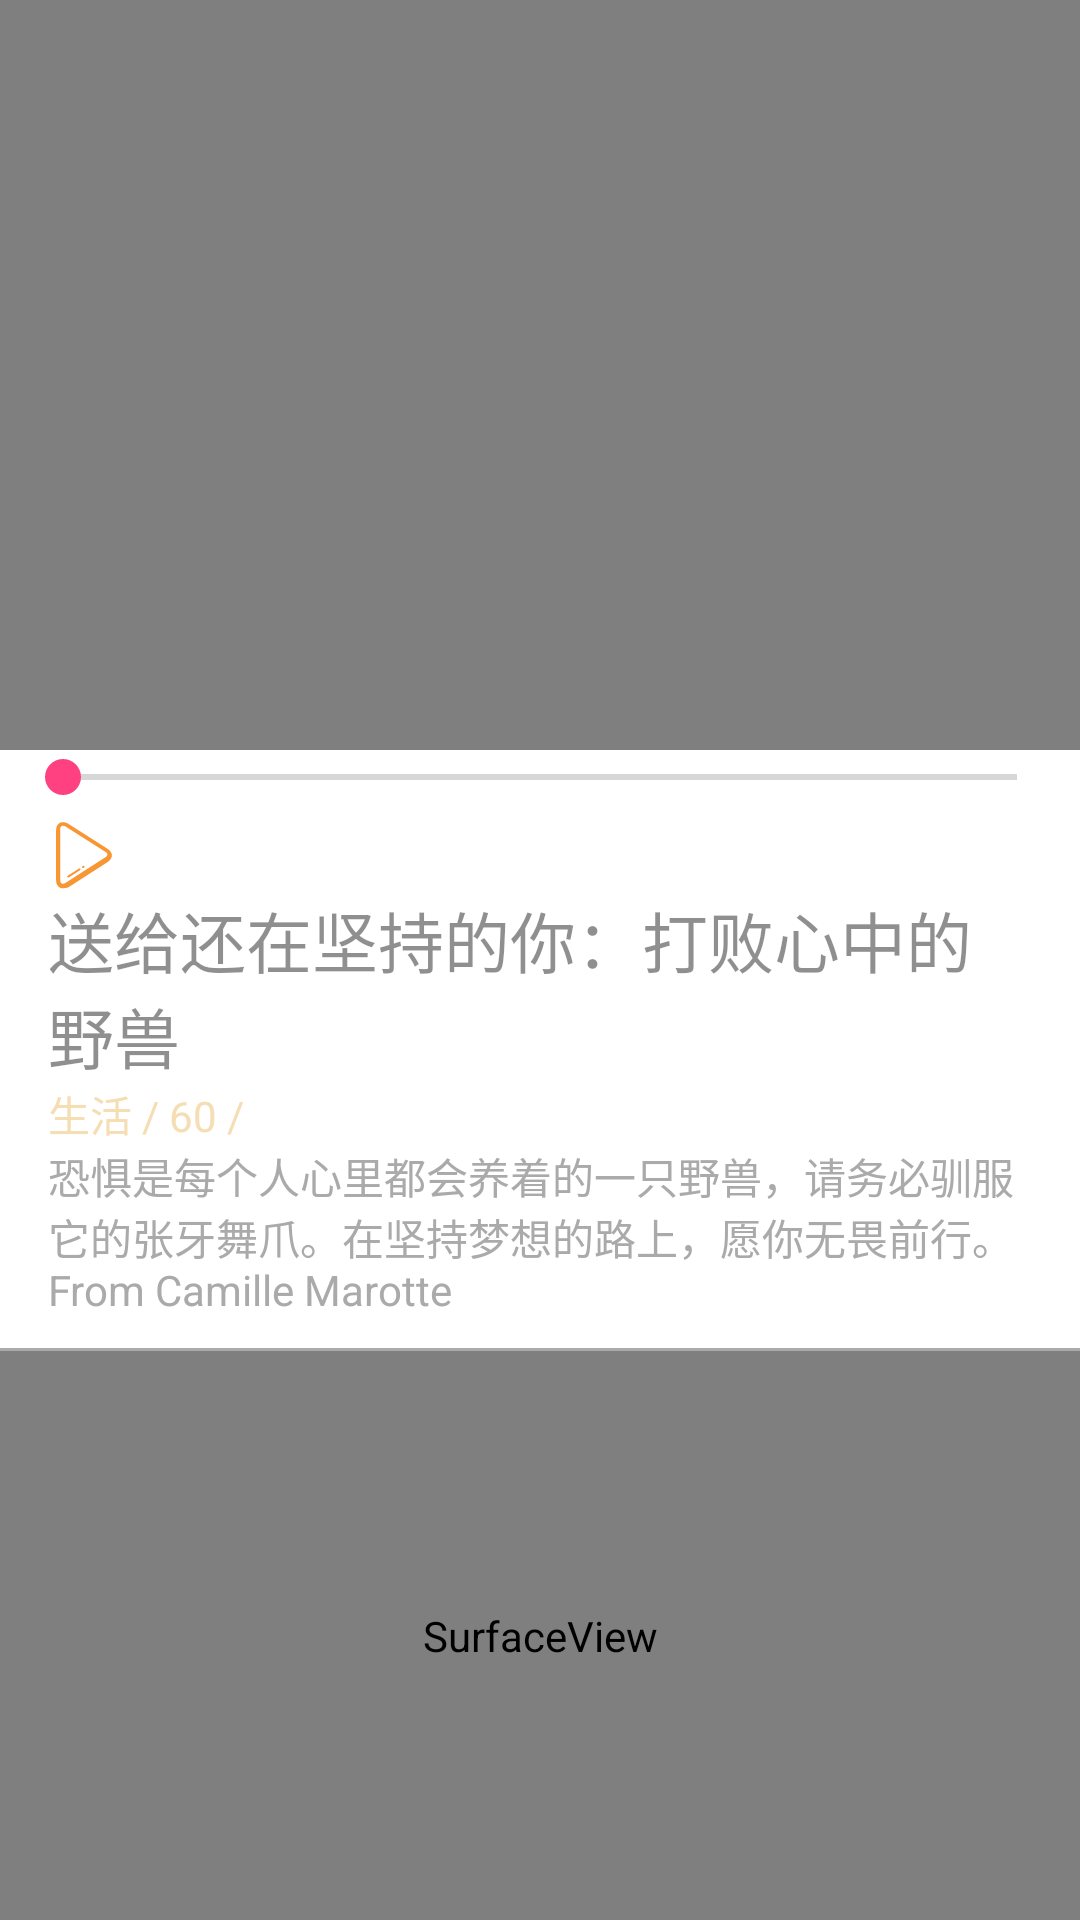

Locate icon controls on the screen. Image size 1080 x 1920, boxes as [x1, y1, x2, y2].
video play: [56, 822, 112, 889]
